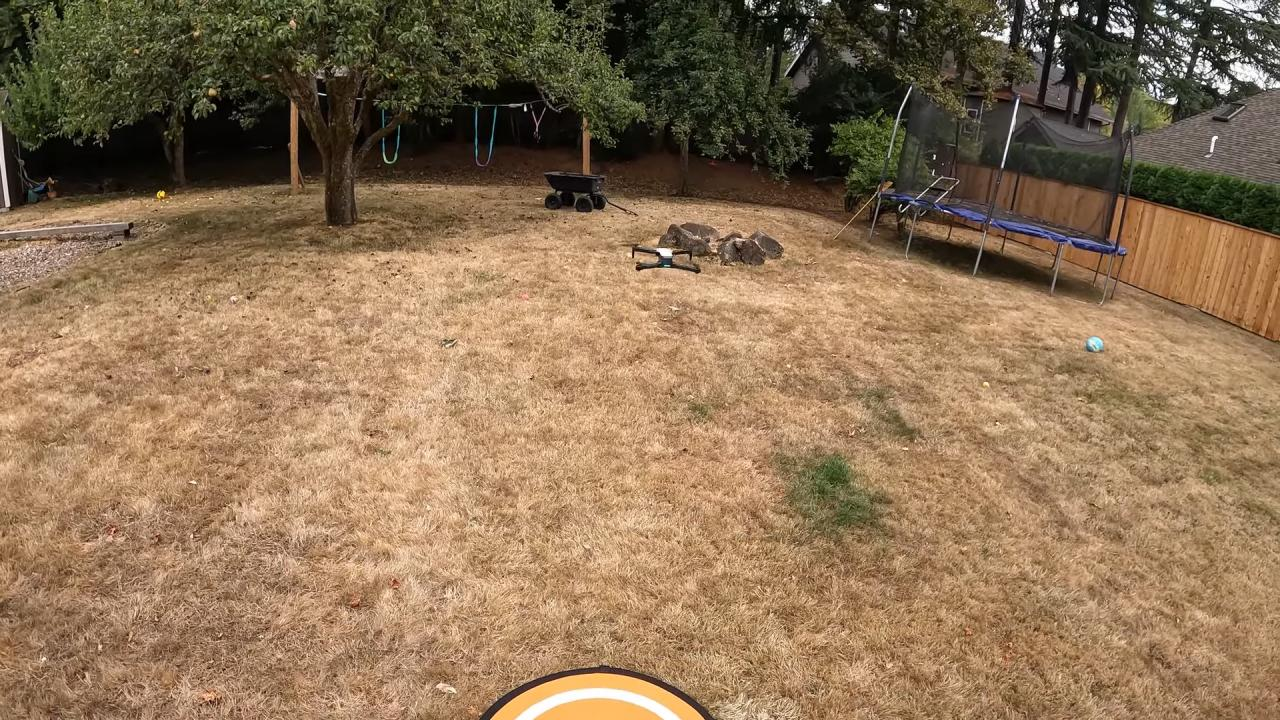Drone: (623, 232, 710, 283)
